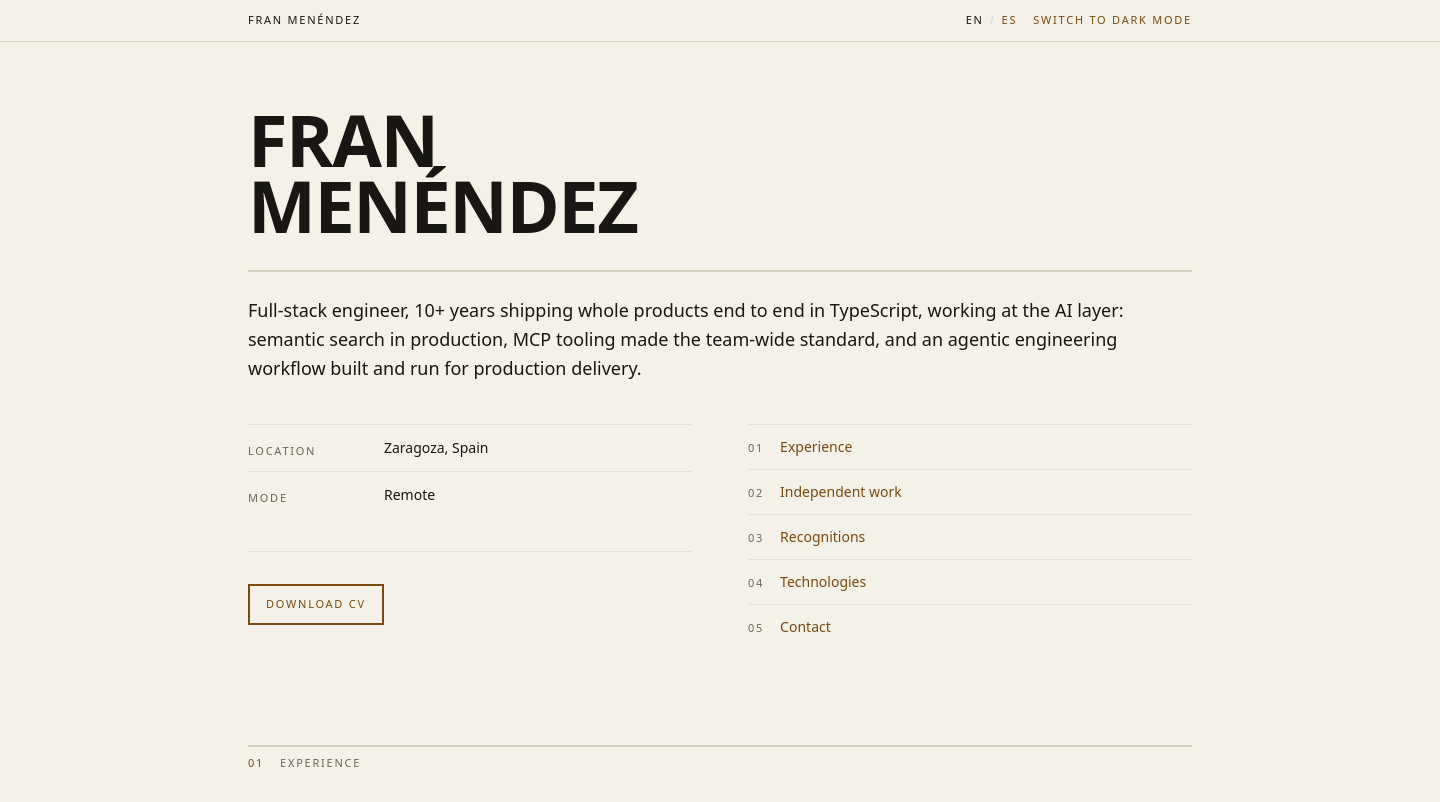
English edition › the top of the record › says what the theme control will do, in the edition’s own words
Click the button "Switch to dark mode" at (1113, 20), box x1=1033 y1=12 x2=1192 y2=28
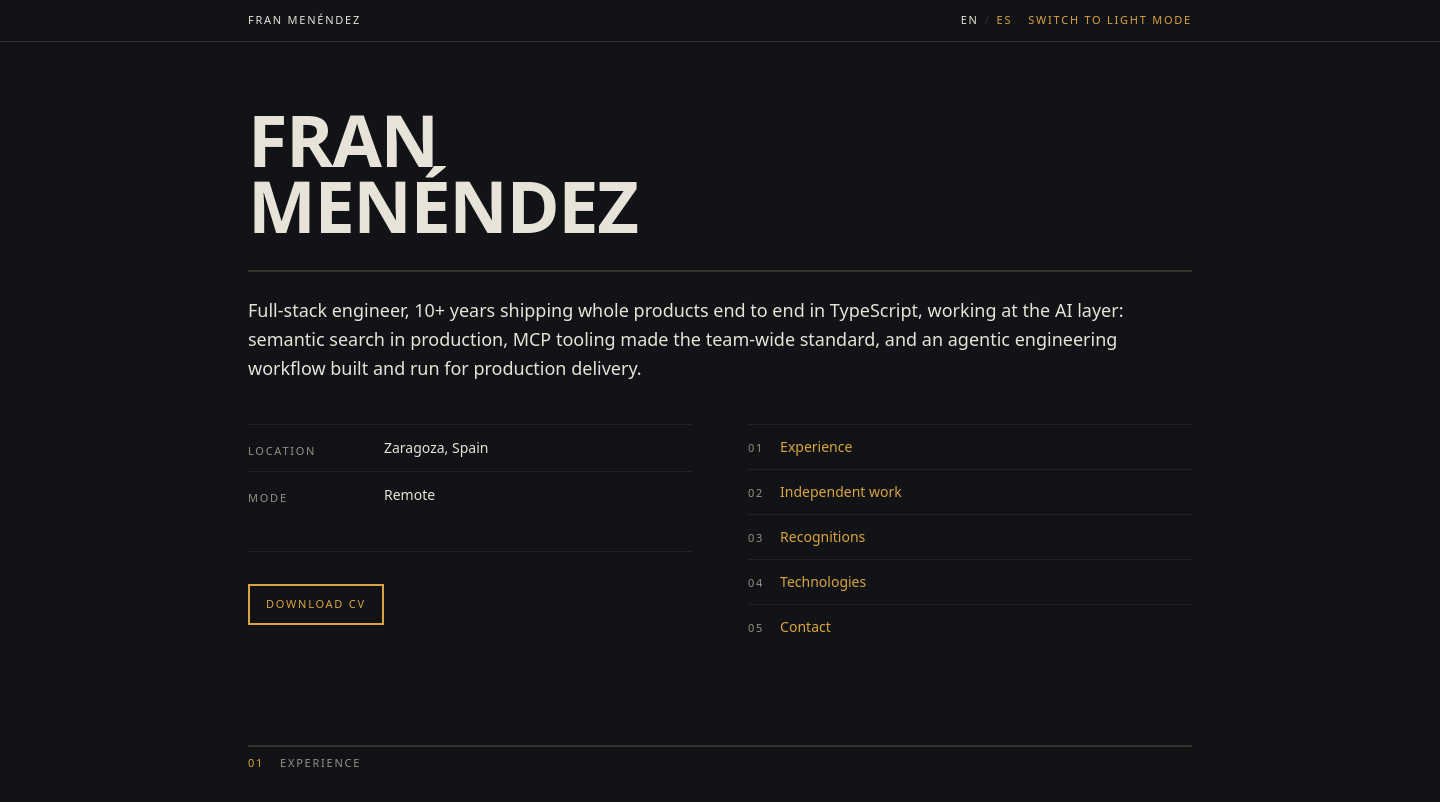
Check: the button "Switch to light mode" is shown, box x1=1028 y1=12 x2=1192 y2=28
